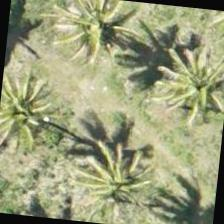Kelapa_Sawit: (68, 129, 168, 223), (51, 0, 149, 80), (0, 67, 70, 164), (163, 6, 223, 91)
